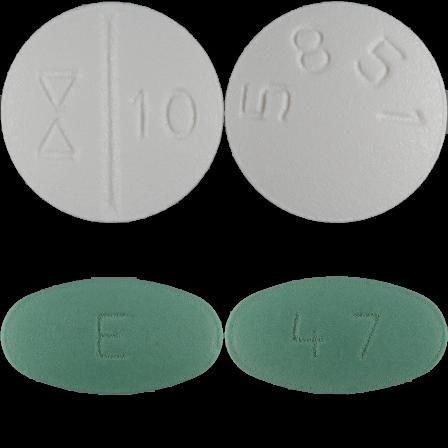68788-9302: (0, 0, 224, 224)
